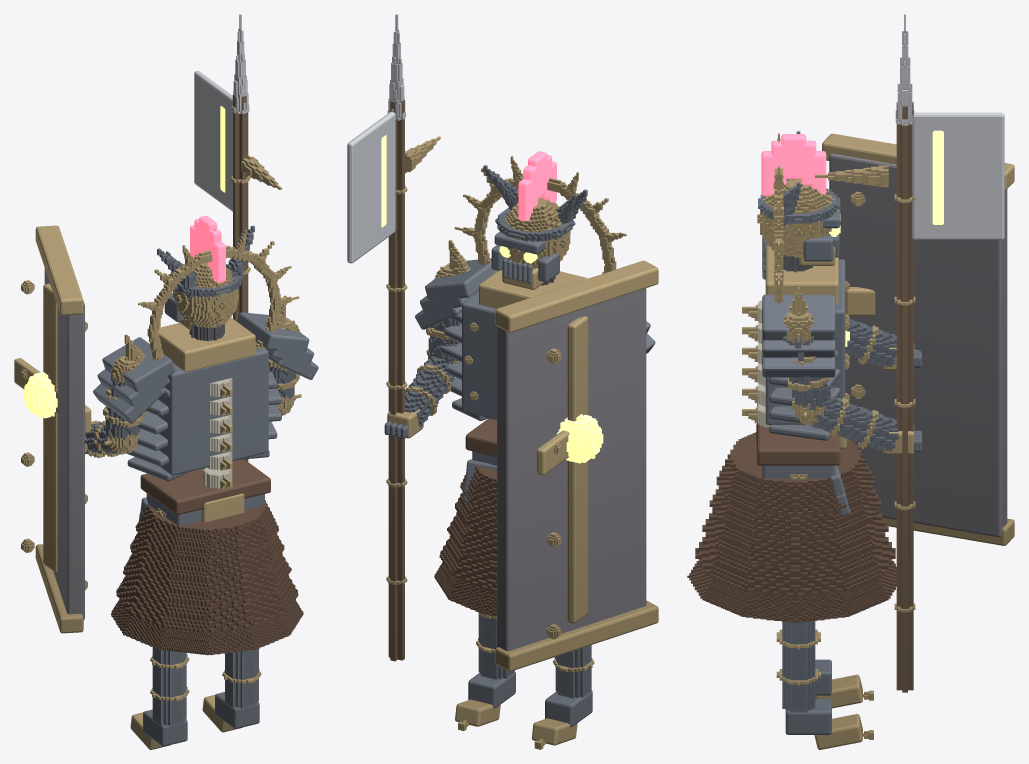
File: enemy_02_necropolis_praetorian.glb
The picture shows the model from 3 angles, left to right: view 1: azimuth 30°, elevation 25°; view 2: azimuth 150°, elevation 25°; view 3: azimuth 270°, elevation 25°; orthographic projection. The views are drawn at different scales.
Parts seen in each view (by area): view 1: Pelvis, Torso, ForearmL, ForearmR, Head, ShinL, SecondaryProp, ShinR, UpperArmL, UpperArmR; view 2: ForearmL, ForearmR, Torso, Head, Pelvis, ShinL, ShinR, SecondaryProp, UpperArmR; view 3: ForearmL, Pelvis, ForearmR, Torso, Head, ShinR, UpperArmR, ShinL, SecondaryProp.
Part boxes in pixels (x1=…): Pelvis: x1=111, y1=459, x2=303, y2=655; Torso: x1=93, y1=295, x2=318, y2=488; ForearmL: x1=14, y1=225, x2=140, y2=633; ForearmR: x1=194, y1=14, x2=301, y2=461; Head: x1=157, y1=215, x2=254, y2=341; ShinL: x1=130, y1=647, x2=189, y2=749; SecondaryProp: x1=138, y1=229, x2=299, y2=368; ShinR: x1=202, y1=648, x2=261, y2=732; UpperArmL: x1=103, y1=356, x2=145, y2=439; UpperArmR: x1=268, y1=317, x2=300, y2=399; ForearmL: x1=495, y1=260, x2=658, y2=671; ForearmR: x1=347, y1=14, x2=459, y2=661; Torso: x1=415, y1=240, x2=655, y2=420; Head: x1=483, y1=151, x2=587, y2=289; Pelvis: x1=434, y1=418, x2=496, y2=616; ShinL: x1=532, y1=645, x2=594, y2=749; ShinR: x1=455, y1=612, x2=515, y2=730; SecondaryProp: x1=454, y1=156, x2=626, y2=273; UpperArmR: x1=426, y1=263, x2=461, y2=361; ForearmL: x1=822, y1=133, x2=1014, y2=545; Pelvis: x1=687, y1=403, x2=896, y2=623; ForearmR: x1=792, y1=14, x2=1004, y2=692; Torso: x1=742, y1=235, x2=849, y2=440; Head: x1=757, y1=131, x2=840, y2=272; ShinR: x1=776, y1=621, x2=873, y2=749; UpperArmR: x1=783, y1=311, x2=830, y2=410; ShinL: x1=776, y1=629, x2=873, y2=708; SecondaryProp: x1=773, y1=133, x2=783, y2=303.
Size of the model in its own units: 0.8881 by 2.51 by 0.986.
